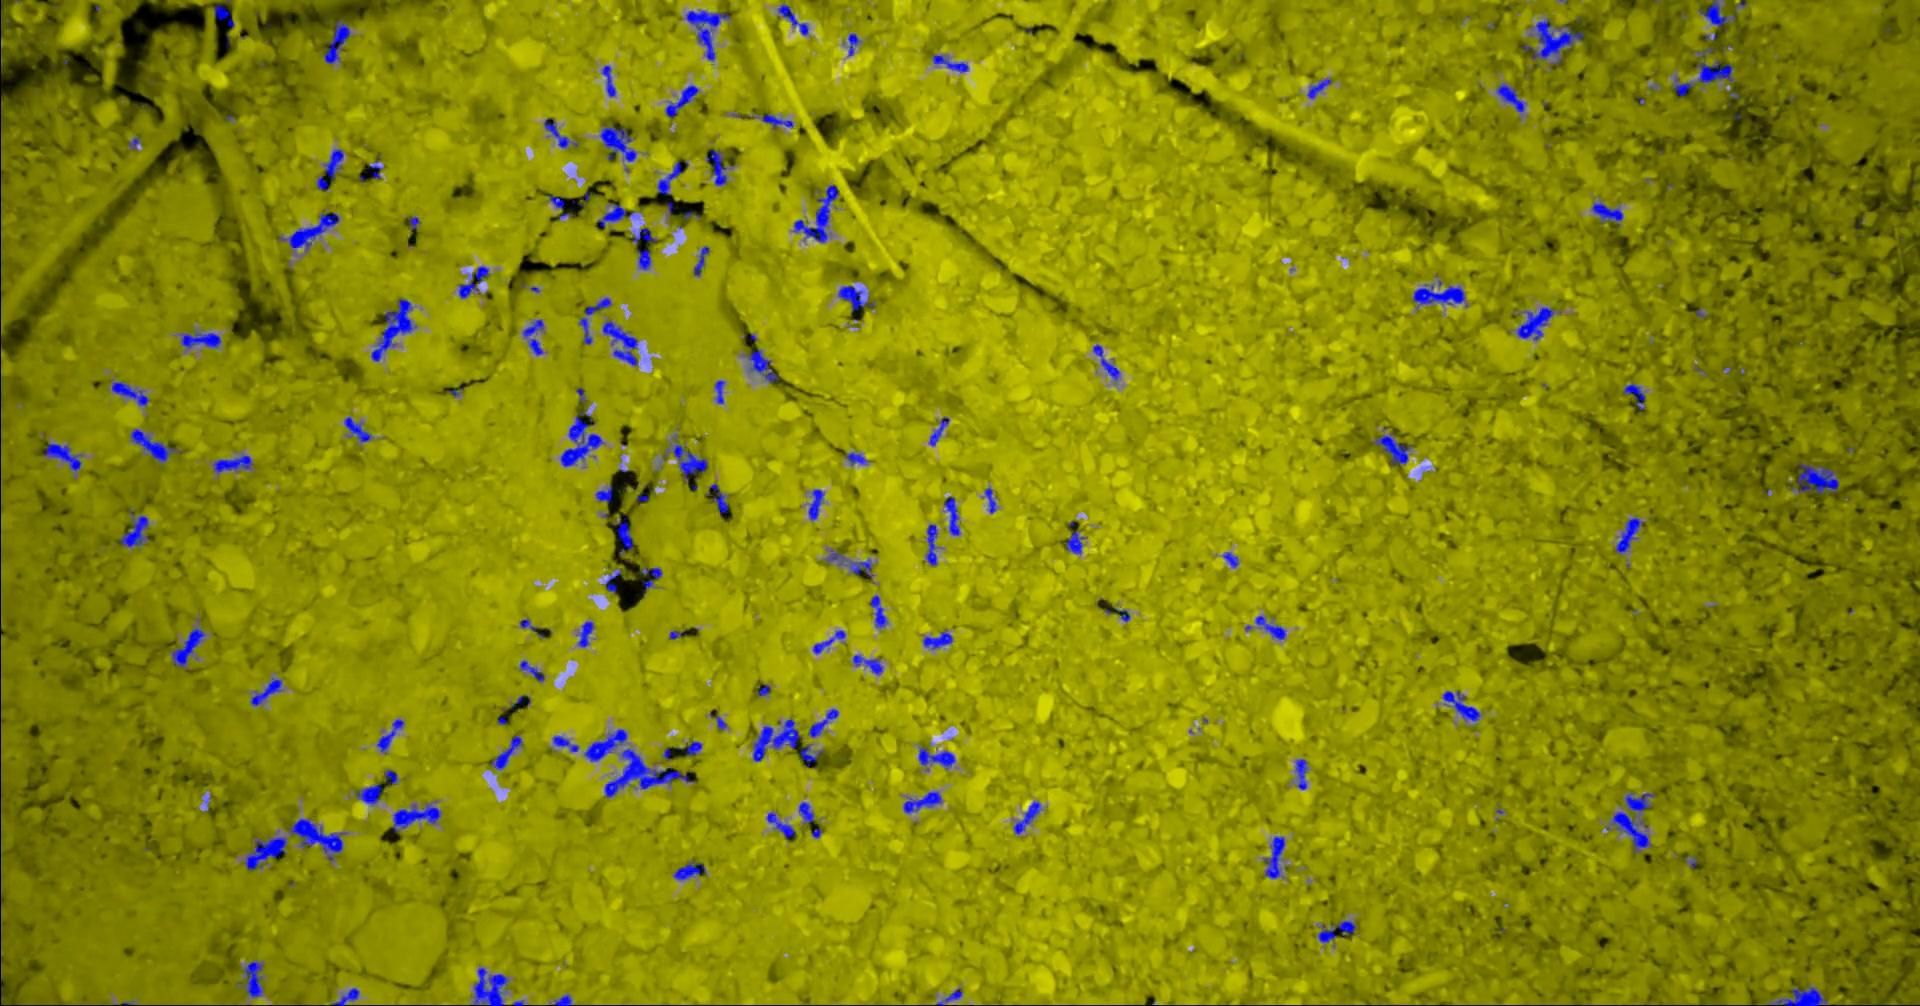ant: (1605, 793, 1655, 852), (1521, 18, 1583, 65), (370, 298, 417, 361), (792, 184, 838, 243), (287, 818, 347, 860), (278, 211, 339, 250), (560, 412, 603, 466), (684, 10, 730, 60), (1695, 46, 1738, 98), (662, 436, 707, 481), (752, 718, 800, 761), (130, 428, 182, 462), (1785, 462, 1837, 493), (602, 320, 637, 365), (578, 297, 611, 344), (243, 836, 287, 869), (583, 729, 627, 761), (599, 124, 636, 161), (472, 967, 508, 1005), (391, 803, 439, 831), (825, 550, 872, 578), (1516, 306, 1554, 340), (1373, 431, 1411, 465), (1412, 283, 1465, 307), (171, 627, 204, 666), (1443, 690, 1481, 721), (323, 20, 350, 64), (119, 508, 149, 547), (745, 348, 778, 382), (489, 734, 522, 768), (1698, 0, 1735, 30), (316, 149, 343, 191), (665, 84, 698, 117), (543, 117, 578, 149), (1769, 986, 1826, 1005), (42, 443, 81, 470), (1615, 517, 1644, 553), (837, 285, 874, 312), (777, 3, 808, 36), (1262, 835, 1285, 878), (1092, 344, 1119, 381), (458, 265, 488, 298), (657, 160, 683, 196), (376, 718, 403, 753), (597, 202, 634, 227), (237, 960, 263, 997), (250, 676, 282, 705), (110, 381, 149, 405), (1013, 801, 1040, 835), (1317, 920, 1355, 942), (808, 708, 838, 735), (902, 791, 941, 813), (918, 746, 955, 768), (811, 629, 844, 653), (1496, 83, 1524, 111), (522, 319, 543, 354), (1591, 202, 1623, 226), (1255, 615, 1286, 639), (212, 453, 251, 473), (706, 149, 726, 185), (612, 517, 632, 554), (766, 812, 794, 838), (356, 782, 387, 805), (343, 417, 371, 442), (180, 330, 220, 348), (706, 483, 728, 513), (931, 55, 968, 72), (673, 859, 705, 879), (869, 594, 888, 627), (852, 654, 883, 674), (547, 194, 573, 218), (1622, 382, 1644, 409), (640, 567, 662, 594), (943, 495, 959, 535), (928, 417, 949, 445), (922, 631, 952, 649), (329, 987, 359, 1005), (519, 659, 543, 681), (799, 744, 823, 766), (1305, 77, 1331, 98), (808, 489, 824, 520), (761, 113, 792, 128), (575, 621, 594, 647), (1671, 75, 1693, 97), (924, 525, 936, 565), (213, 3, 232, 27), (693, 246, 709, 276), (601, 65, 615, 97), (1103, 605, 1129, 621), (1065, 530, 1083, 553), (935, 989, 961, 1005), (631, 227, 657, 243), (552, 735, 578, 751), (604, 568, 620, 592), (676, 741, 701, 754), (596, 483, 613, 502), (1295, 760, 1307, 789), (797, 801, 813, 823), (709, 713, 726, 730), (844, 452, 869, 465), (984, 486, 996, 513), (636, 248, 650, 269), (847, 33, 860, 55), (367, 161, 382, 179), (1222, 551, 1238, 567), (714, 379, 724, 403), (519, 619, 536, 633), (552, 993, 571, 1005), (383, 768, 397, 784), (409, 216, 419, 230)
